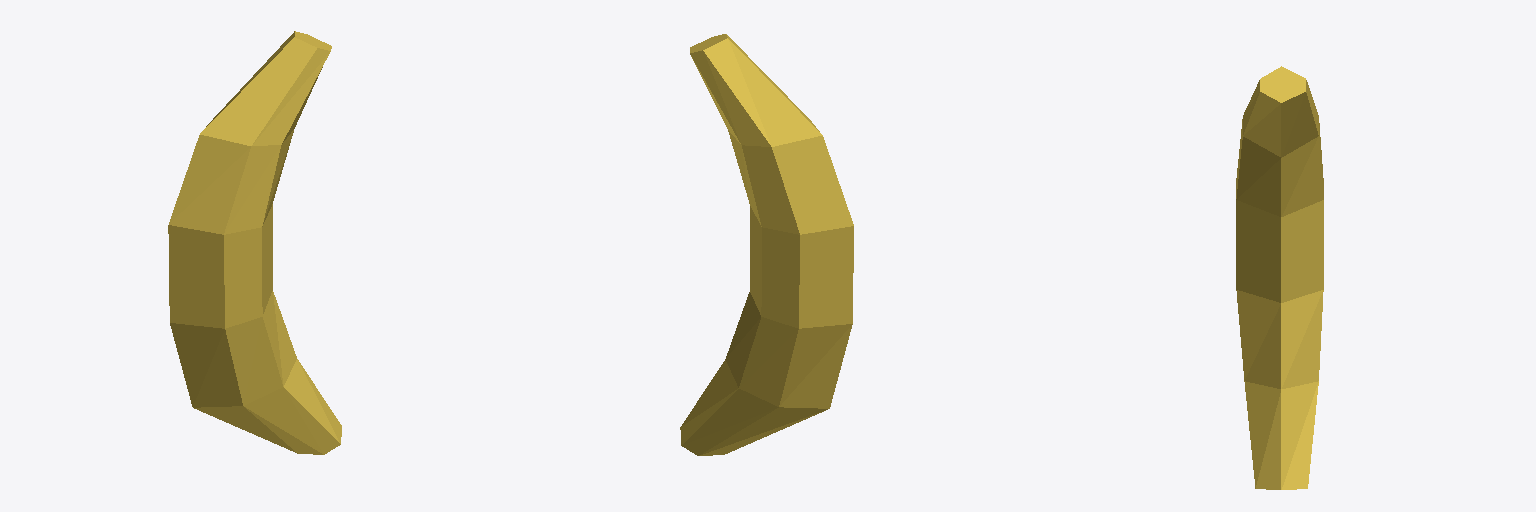
Rendered from banana.obj.
The picture shows the model from 3 angles: view 1: azimuth 30°, elevation 25°; view 2: azimuth 150°, elevation 25°; view 3: azimuth 270°, elevation 25°; orthographic projection.
Parts seen in each view (by area): view 1: Cylinder001; view 2: Cylinder001; view 3: Cylinder001.
Boxes of the visible parts, box(x1,y1,x2,y2) form: Cylinder001: box(168, 31, 341, 454); Cylinder001: box(680, 34, 853, 455); Cylinder001: box(1236, 66, 1323, 489).
Size of the model in its own units: 12.77 by 29.32 by 5.56.